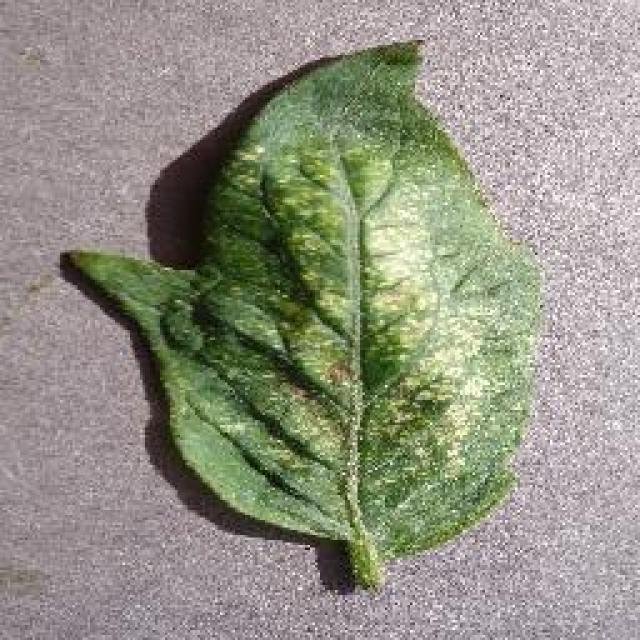Tomato___Spider_mites Two-spotted_spider_mite: (70, 40, 538, 585)
